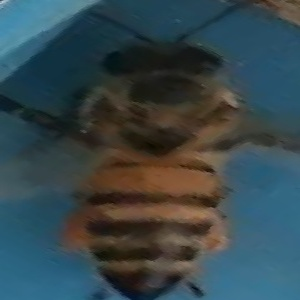bee: (12, 14, 292, 300)
